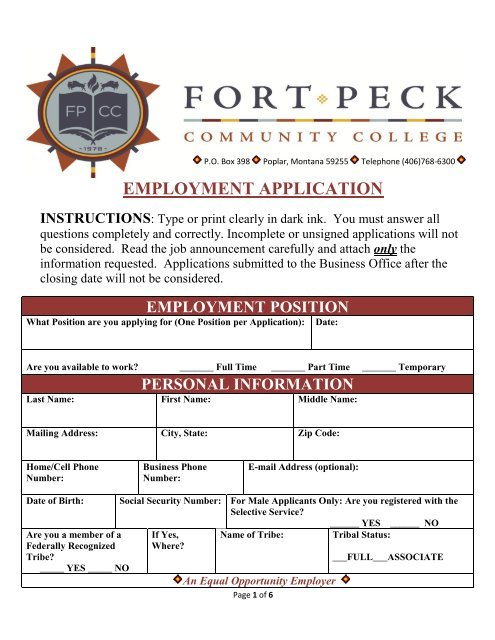table: (21, 296, 476, 589)
